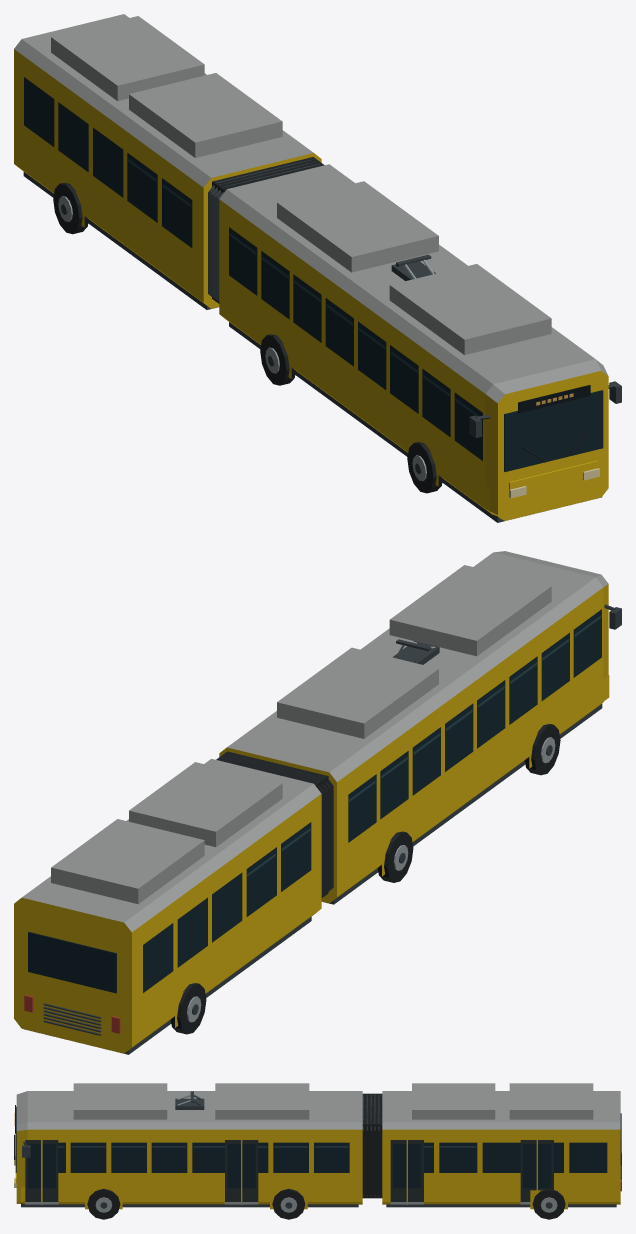
Rendered from bus-bvg-electric-articulated.glb.
3 renders of one model, top to bottom at view 1: azimuth 30°, elevation 25°; view 2: azimuth 150°, elevation 25°; view 3: azimuth 270°, elevation 25°, orthographic. The views are drawn at different scales.
Parts seen in each view (by area): view 1: bus-bvg-electric-articulated.segment-01.005, bus-bvg-electric-articulated.segment-02.005; view 2: bus-bvg-electric-articulated.segment-01.005, bus-bvg-electric-articulated.segment-02.005; view 3: bus-bvg-electric-articulated.segment-01.005, bus-bvg-electric-articulated.segment-02.005.
Boxes of the visible parts, left/top/right/bottom form: bus-bvg-electric-articulated.segment-01.005: left=208, top=157, right=621, bottom=522; bus-bvg-electric-articulated.segment-02.005: left=14, top=14, right=321, bottom=309; bus-bvg-electric-articulated.segment-01.005: left=216, top=551, right=621, bottom=904; bus-bvg-electric-articulated.segment-02.005: left=14, top=759, right=321, bottom=1054; bus-bvg-electric-articulated.segment-01.005: left=14, top=1083, right=382, bottom=1219; bus-bvg-electric-articulated.segment-02.005: left=382, top=1083, right=621, bottom=1219.
Bounding box in the file's own units: 3.16 × 3.42 × 18.12.
